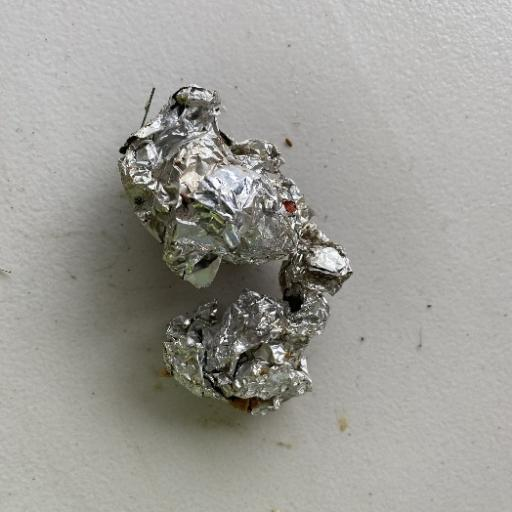Metal: (115, 82, 354, 417)
